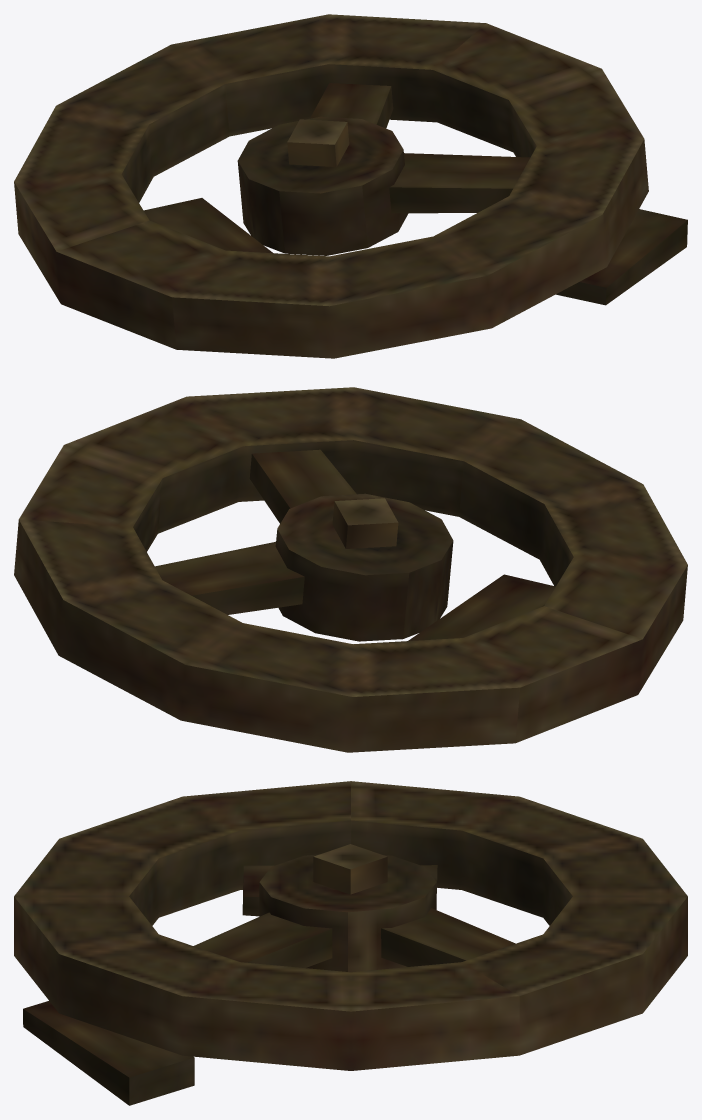
Rendered from ZW_yxcxpcl.FBX.
3 views of the same model, one above another, from view 1: azimuth 30°, elevation 25°; view 2: azimuth 150°, elevation 25°; view 3: azimuth 270°, elevation 25° (orthographic). The views are drawn at different scales.
Parts seen in each view (by area): view 1: ZW_yxcxpcl; view 2: ZW_yxcxpcl; view 3: ZW_yxcxpcl.
Boxes of the visible parts, bbox=[...] form: ZW_yxcxpcl: bbox=[14, 14, 687, 358]; ZW_yxcxpcl: bbox=[14, 387, 687, 752]; ZW_yxcxpcl: bbox=[14, 781, 687, 1105].
Bounding box in the file's own units: 98.77 × 19.33 × 98.34.
